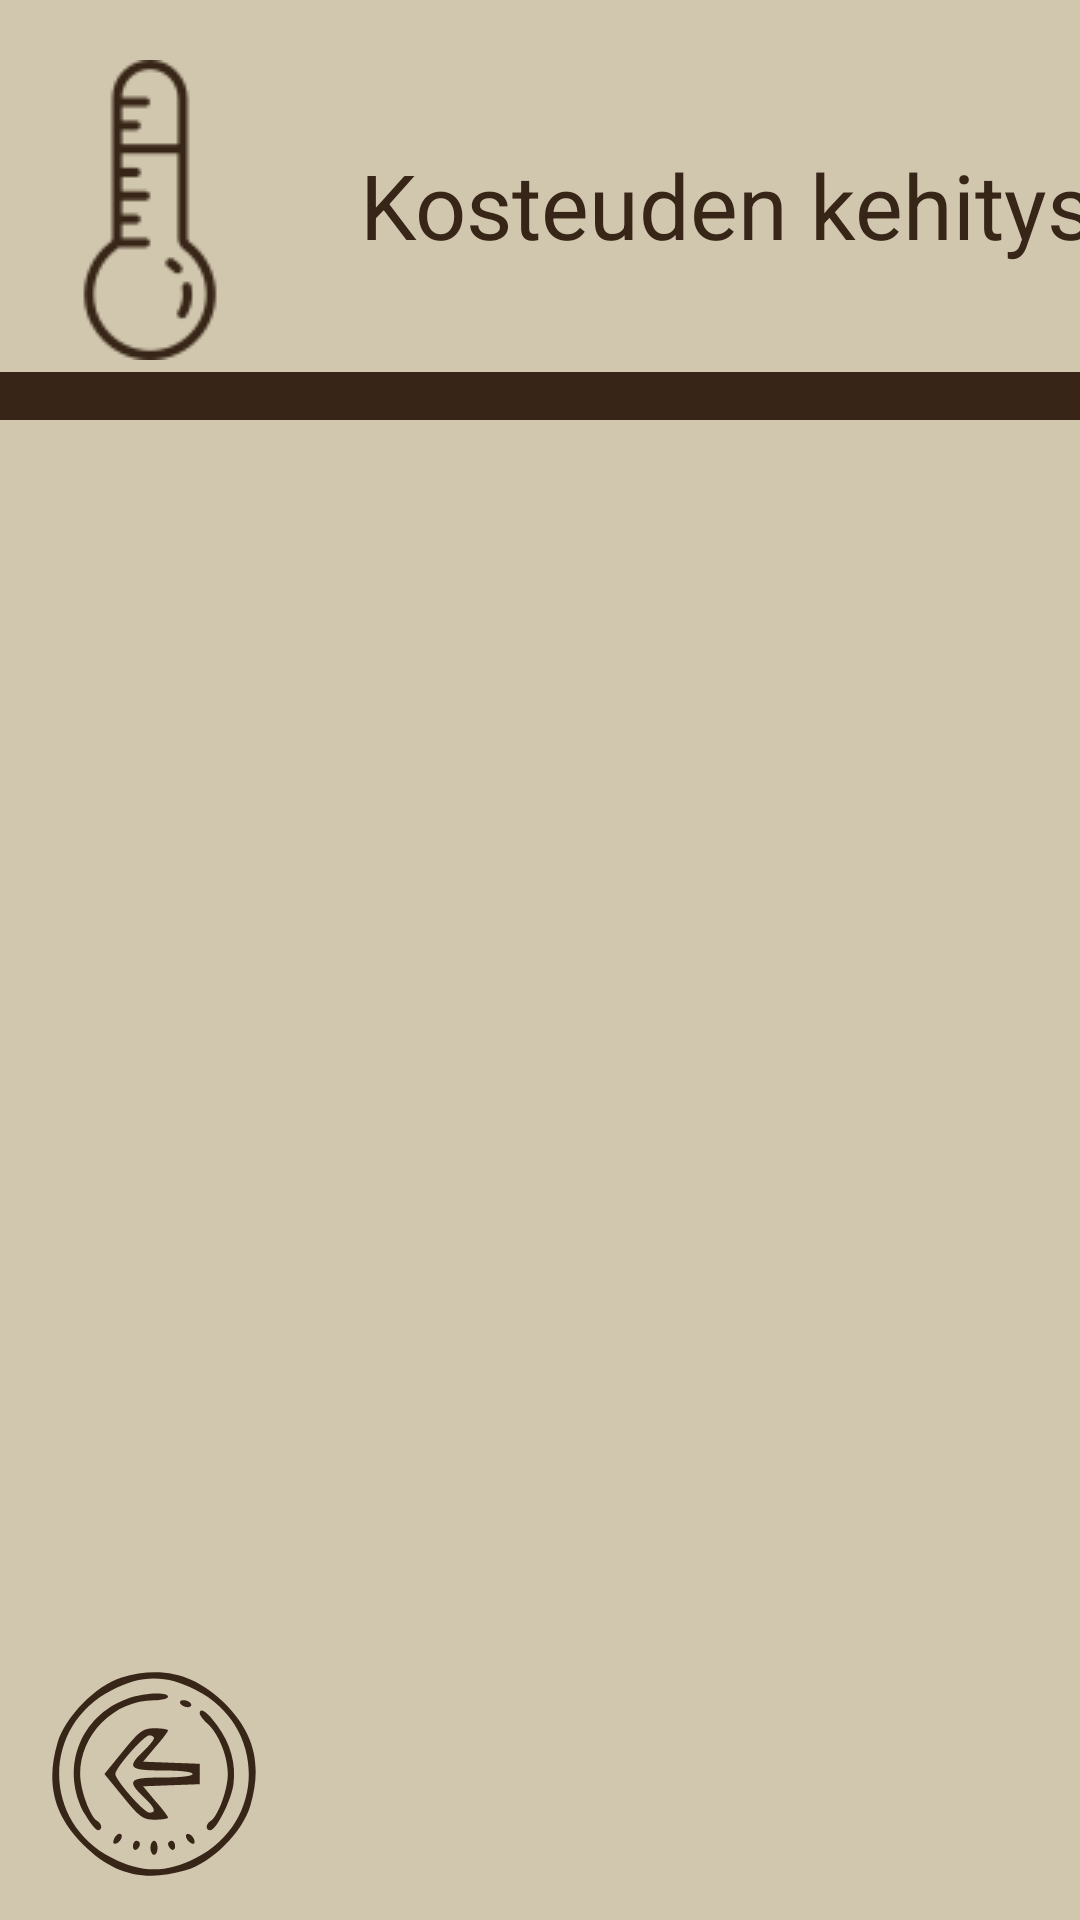

Named icons in this screenshot (1080 × 1920) and their centers, [x,y]:
arrow: [154,1774]
